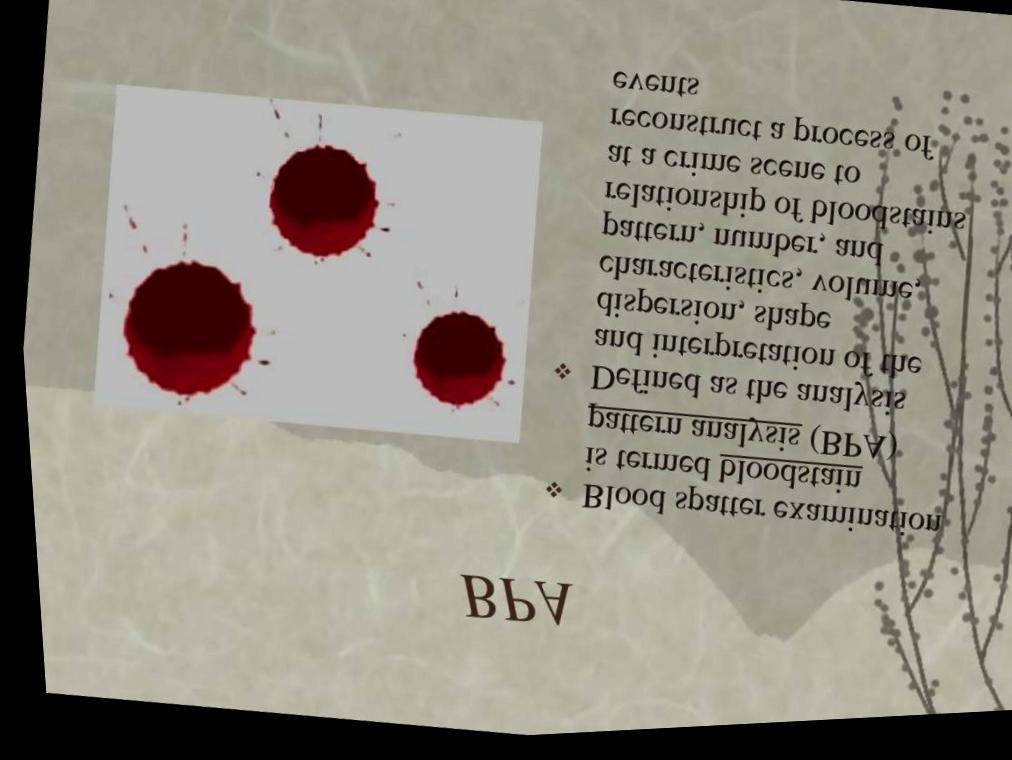Fire: (117, 264, 251, 402), (265, 148, 374, 260), (406, 316, 500, 411)
